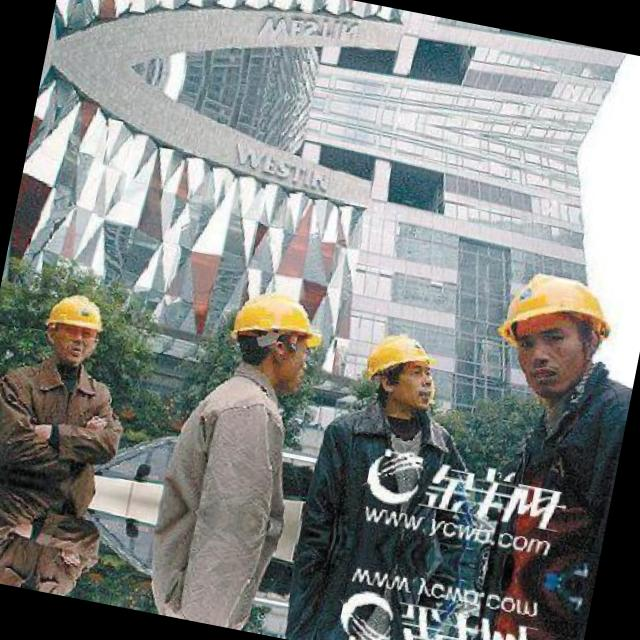helmet: (480, 256, 625, 414), (216, 278, 328, 400), (356, 322, 449, 419), (30, 280, 112, 373)
